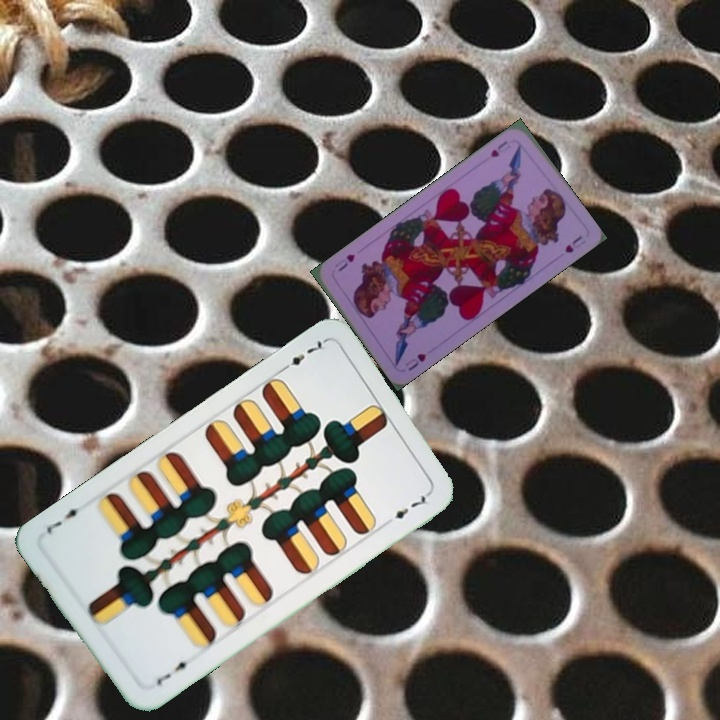E7: (276, 337, 328, 375), (151, 656, 196, 689)
HU: (401, 349, 428, 374), (486, 137, 513, 160)
